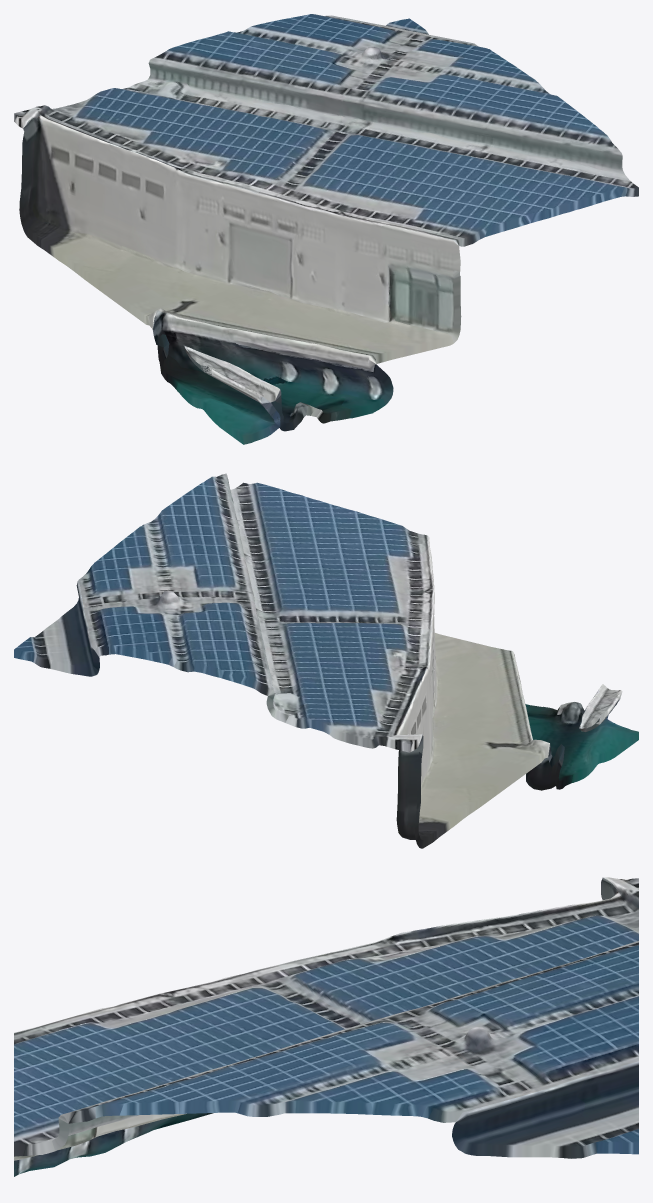
File: z20-167777-405200-h0-yup-uvflip-v3-world.glb
3 views of the same model, one above another, from view 1: azimuth 30°, elevation 25°; view 2: azimuth 150°, elevation 25°; view 3: azimuth 270°, elevation 25° (orthographic). The views are drawn at different scales.
Size of the model in its own units: 30.16 by 14.52 by 30.32.
1 material, 1 textured.
